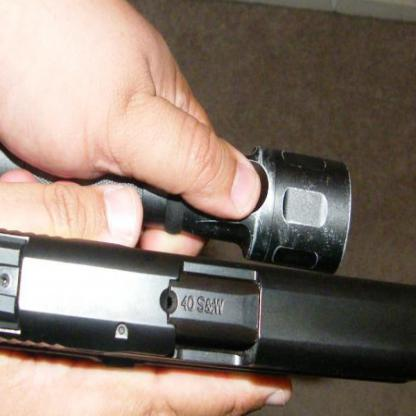gun: (0, 222, 415, 397)
